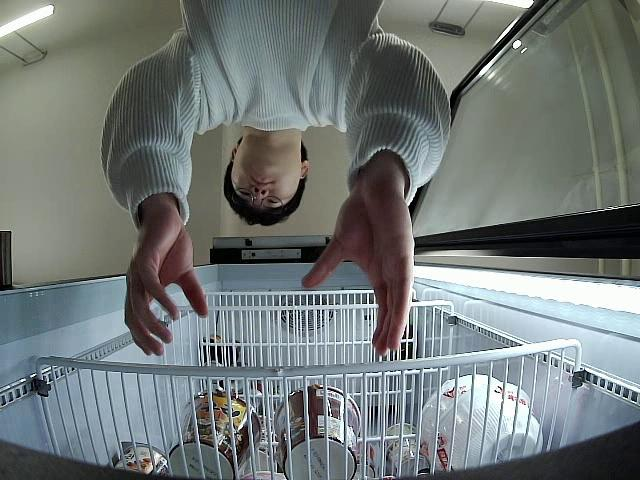00_hand: (301, 185, 415, 355), (124, 214, 208, 357)
